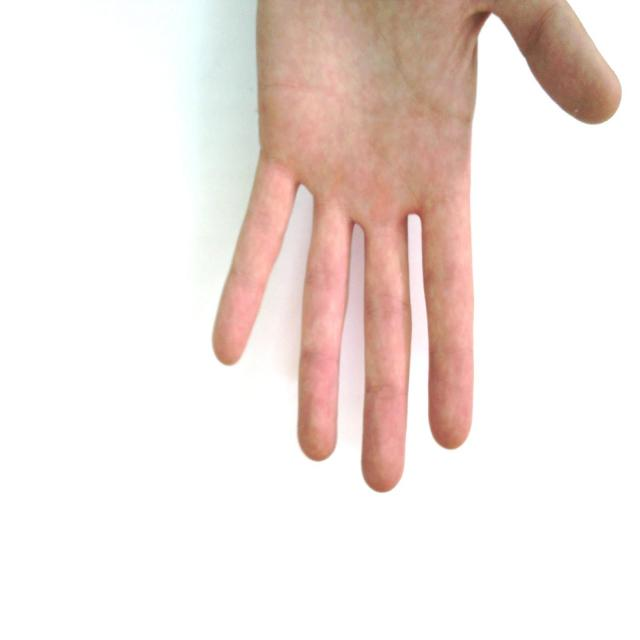others: (204, 0, 640, 498)
